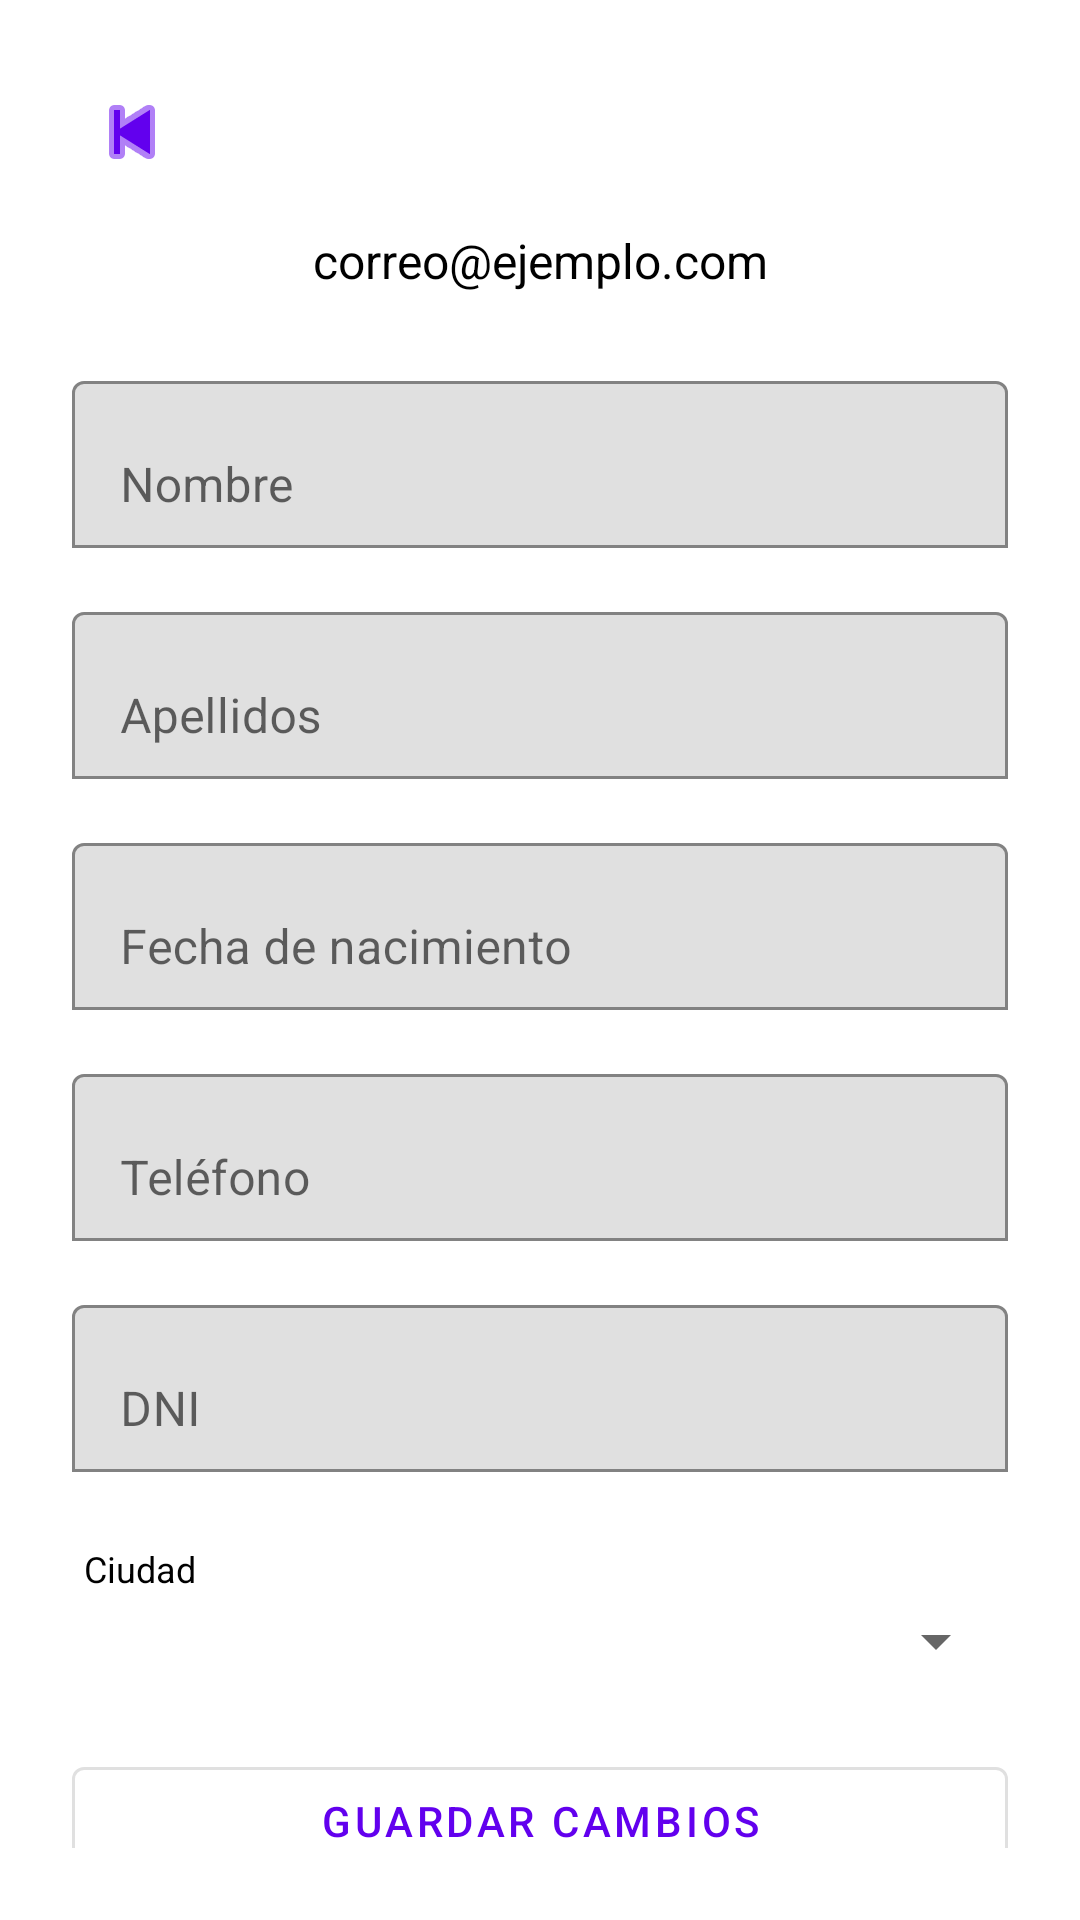

Icon bounding boxes for this 1080 x 1920 phone screenshot, format (x1, y1, x2, y2):
Volver atrás: (109, 105, 155, 159)
